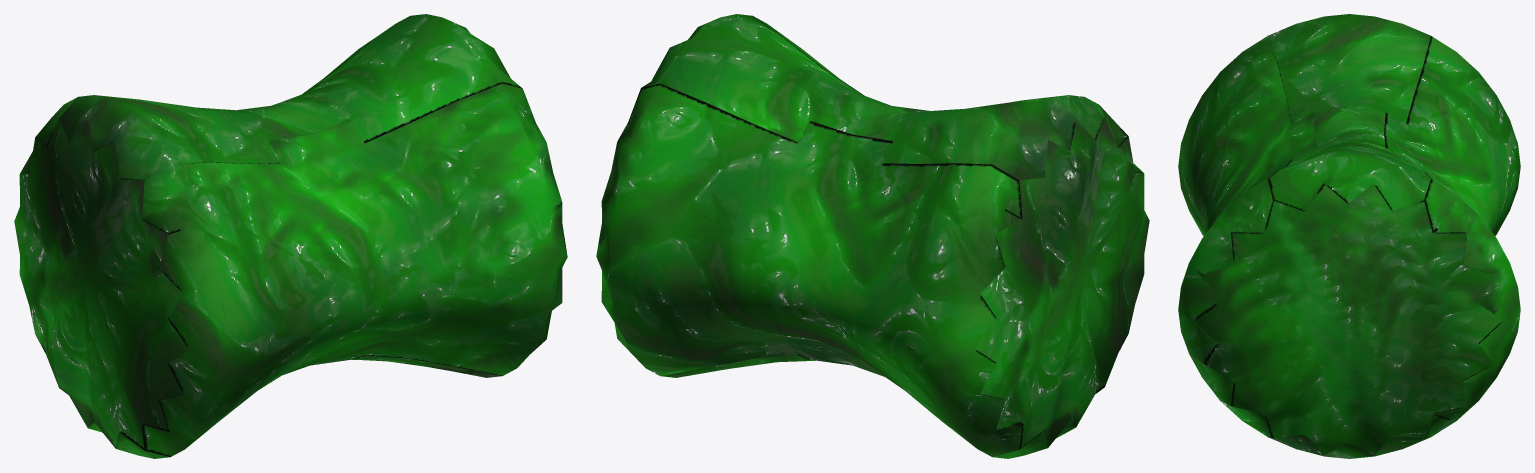
The model's file is attach_slime_DarkGreen.FBX.
The picture shows the model from 3 angles, left to right: view 1: azimuth 30°, elevation 25°; view 2: azimuth 150°, elevation 25°; view 3: azimuth 270°, elevation 25°; orthographic projection. The views are drawn at different scales.
Parts seen in each view (by area): view 1: 접착; view 2: 접착; view 3: 접착.
Boxes of the visible parts, box(x1,y1,x2,y2) form: 접착: box(14, 14, 567, 458); 접착: box(596, 14, 1149, 458); 접착: box(1178, 14, 1520, 458).
Bounding box in the file's own units: 4.03 × 3.26 × 3.17.
Materials: 1 (1 with a texture image).
